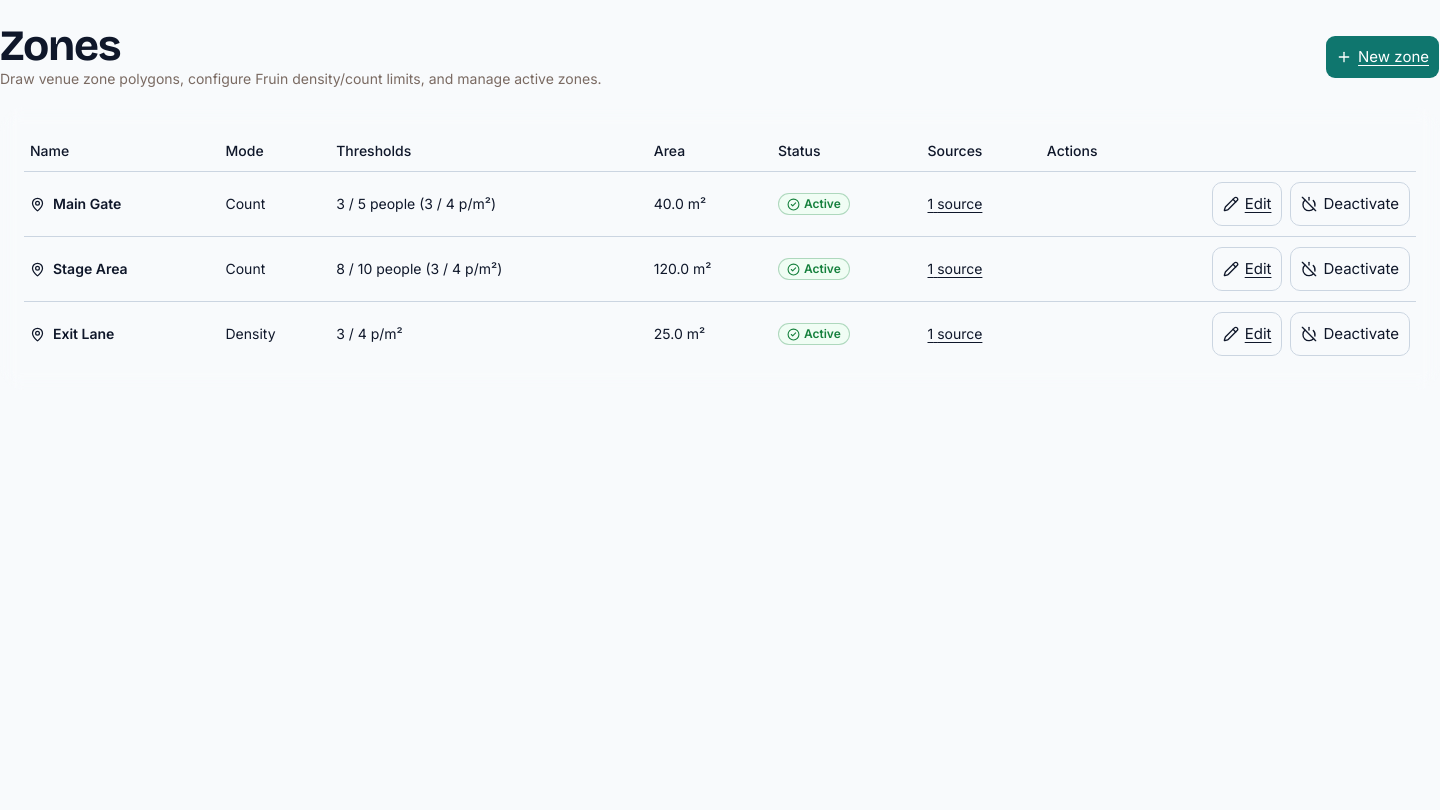
Test case: AdminZonesPage (/admin/zones) › renders zone table, shows "Resolve its alert first" on 409 CONFLICT, handles empty state, and passes axe
The width and height of the screenshot is (1440, 810).
Expected: the text "Main Gate" is shown, [53,194,121,214]
Click the button "Deactivate" in the row of "Main Gate". click: (1350, 204)
box: [1290,182,1410,226]
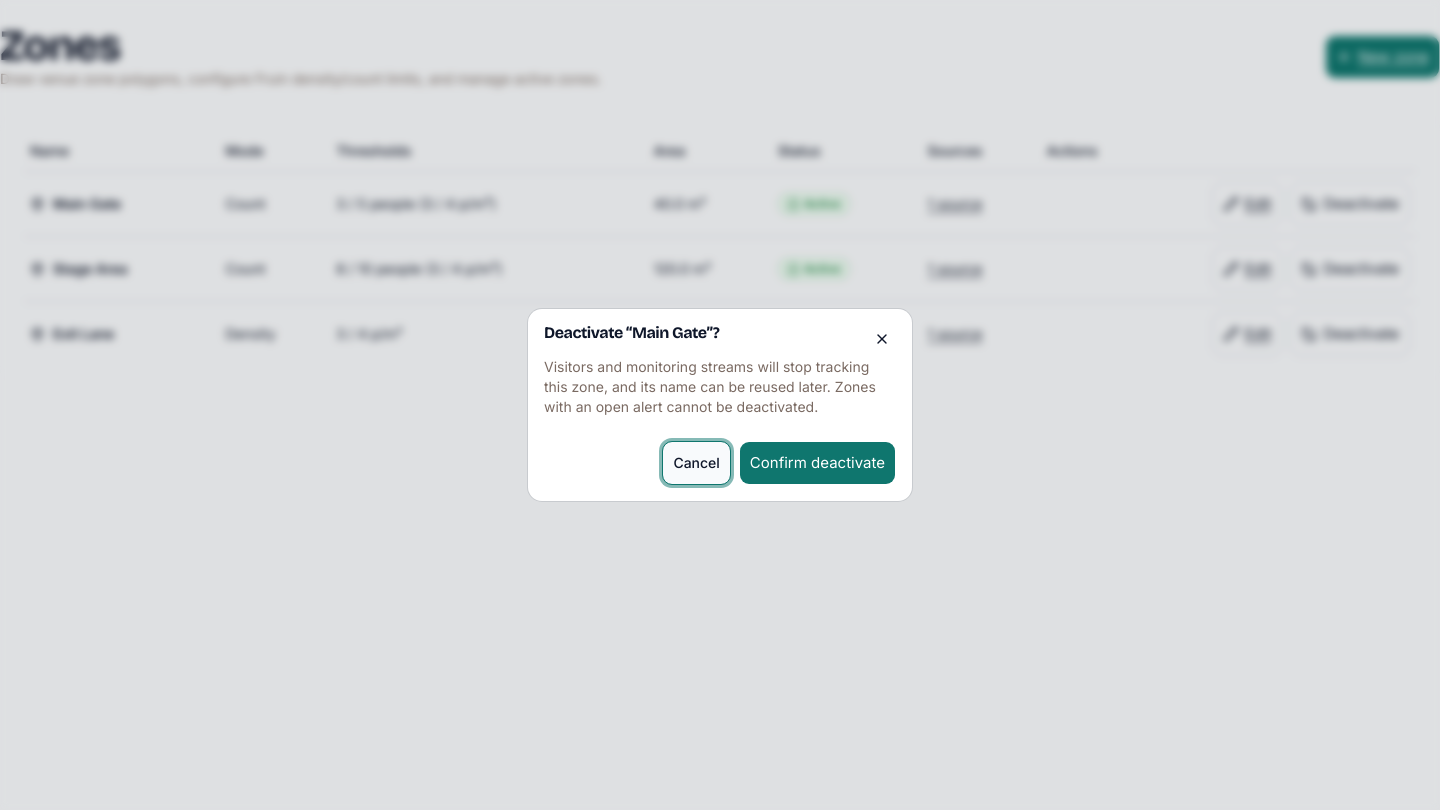
Click the button "Confirm deactivate". click: (817, 463)
box: [739,441,896,485]
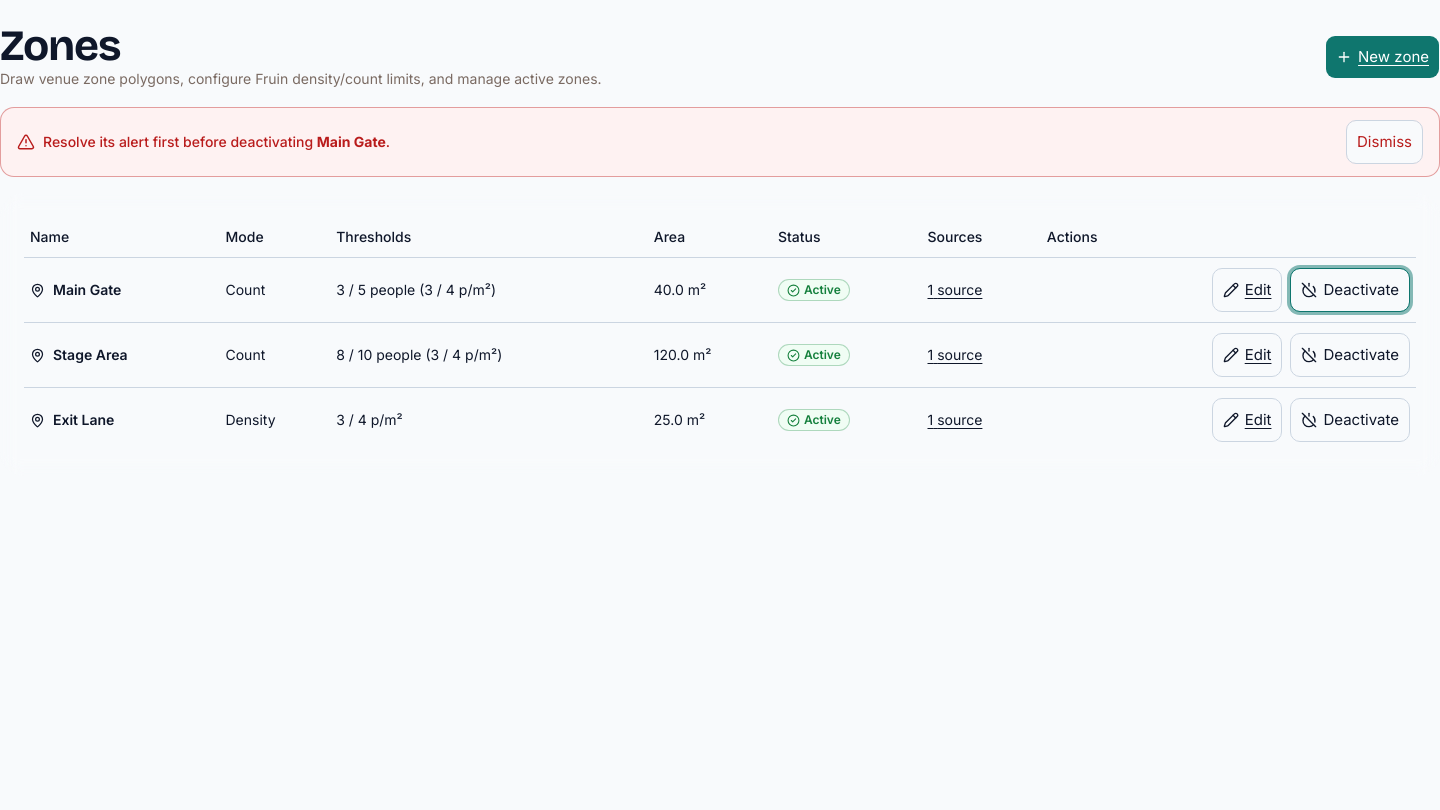
Expected: the text "Resolve its alert first before deactivating Main Gate." is shown, [43,132,390,152]
